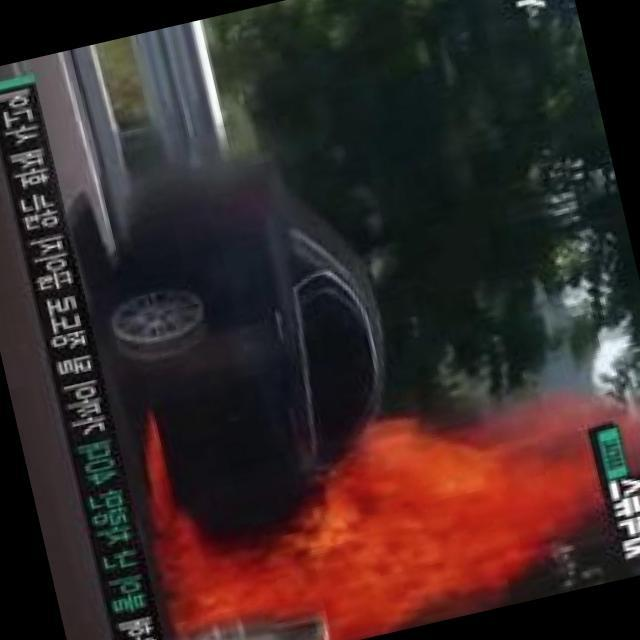Fire: (144, 417, 589, 640)
